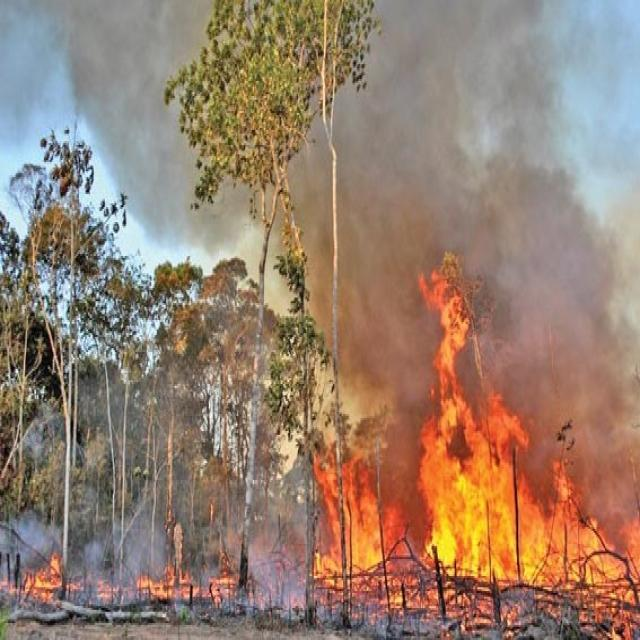Fire: (258, 214, 640, 608), (0, 486, 273, 610)
Smoke: (42, 8, 640, 522), (0, 493, 168, 572), (246, 462, 314, 586)
